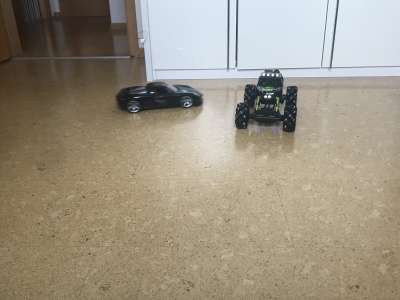remote control car: (233, 67, 299, 133)
